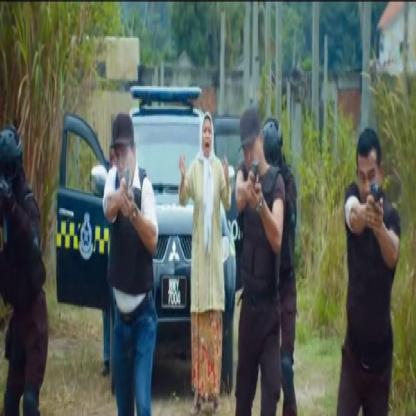Guns: (0, 166, 18, 255), (368, 177, 385, 211), (121, 162, 132, 206), (250, 157, 260, 190)
